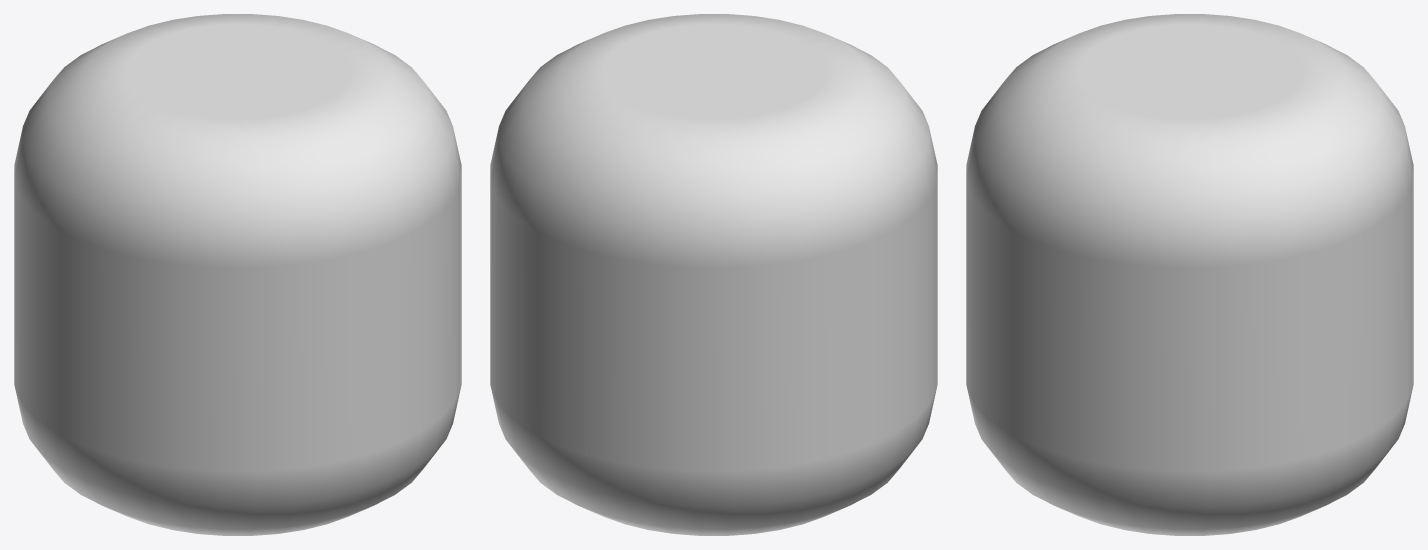
Rendered from 27-Zombie-Outrage-face.glb.
The picture shows the model from 3 angles, left to right: view 1: azimuth 30°, elevation 25°; view 2: azimuth 150°, elevation 25°; view 3: azimuth 270°, elevation 25°; orthographic projection.
Parts seen in each view (by area): view 1: 27-Zombie-Outrage-face; view 2: 27-Zombie-Outrage-face; view 3: 27-Zombie-Outrage-face.
Part boxes in pixels (x1,y1,x2,y2): 27-Zombie-Outrage-face: (14,14,461,535); 27-Zombie-Outrage-face: (490,14,937,535); 27-Zombie-Outrage-face: (966,14,1413,535).
Bounding box in the file's own units: 1.2 × 1.2 × 1.2.
Materials: 1 (1 with a texture image).
